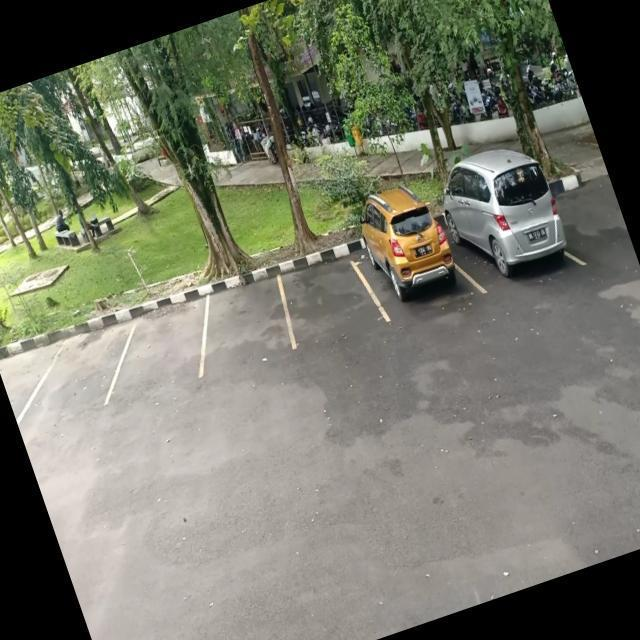Car: (429, 136, 582, 302), (339, 181, 471, 327)
Vacant: (99, 275, 224, 403), (181, 251, 305, 380), (16, 302, 137, 427), (265, 230, 383, 350)
